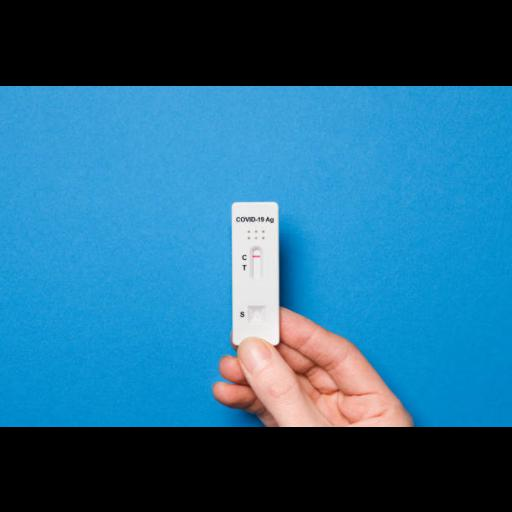Neg: (232, 202, 278, 344)
